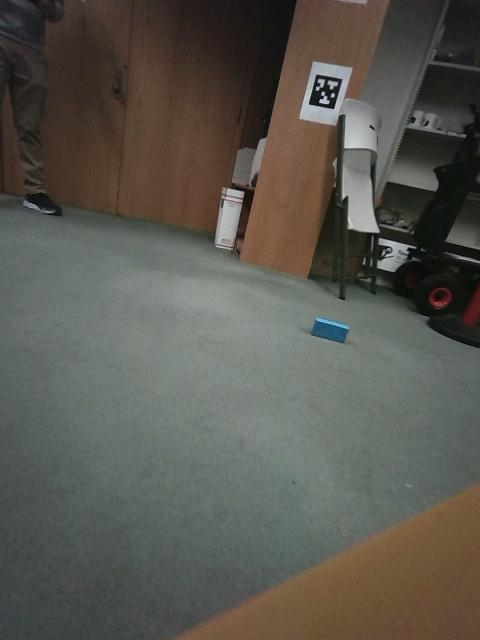block: (216, 273, 243, 294)
